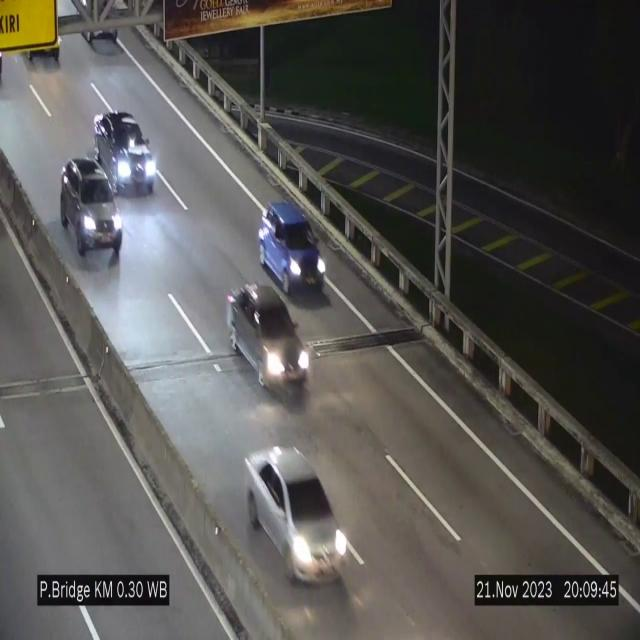Car: (240, 446, 349, 584), (226, 284, 312, 389), (258, 202, 328, 301), (60, 157, 122, 260), (94, 110, 158, 192)
